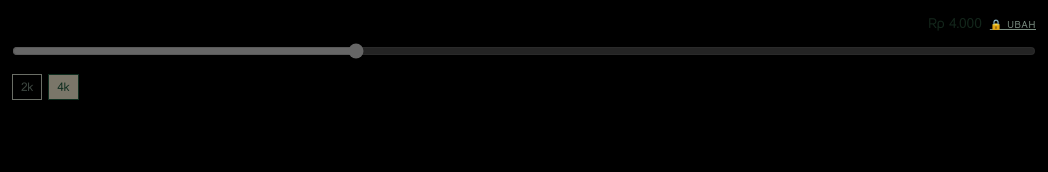
Scenario: RangeSlider — Kunci/Unlock (permintaan Denny 2026-09) › klik 'Ubah' membuka kunci — input & mark jadi aktif, label tombol berubah jadi 'Kunci'
Click the button "🔒 Ubah".
click(1013, 24)  # box [990,16,1036,32]
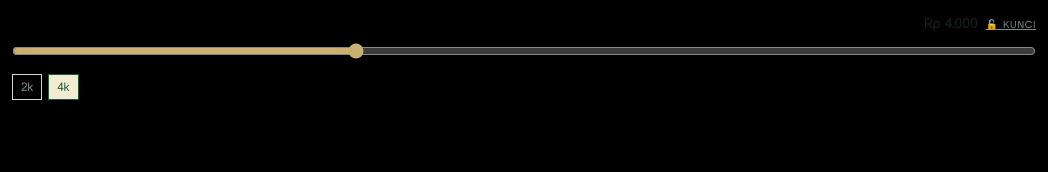
Check: the slider is enabled, box [12,43,1036,59]
Check: the button "4k" is enabled, box [48,74,79,100]
Check: the button "🔓 Kunci" is shown, box [986,16,1036,32]
